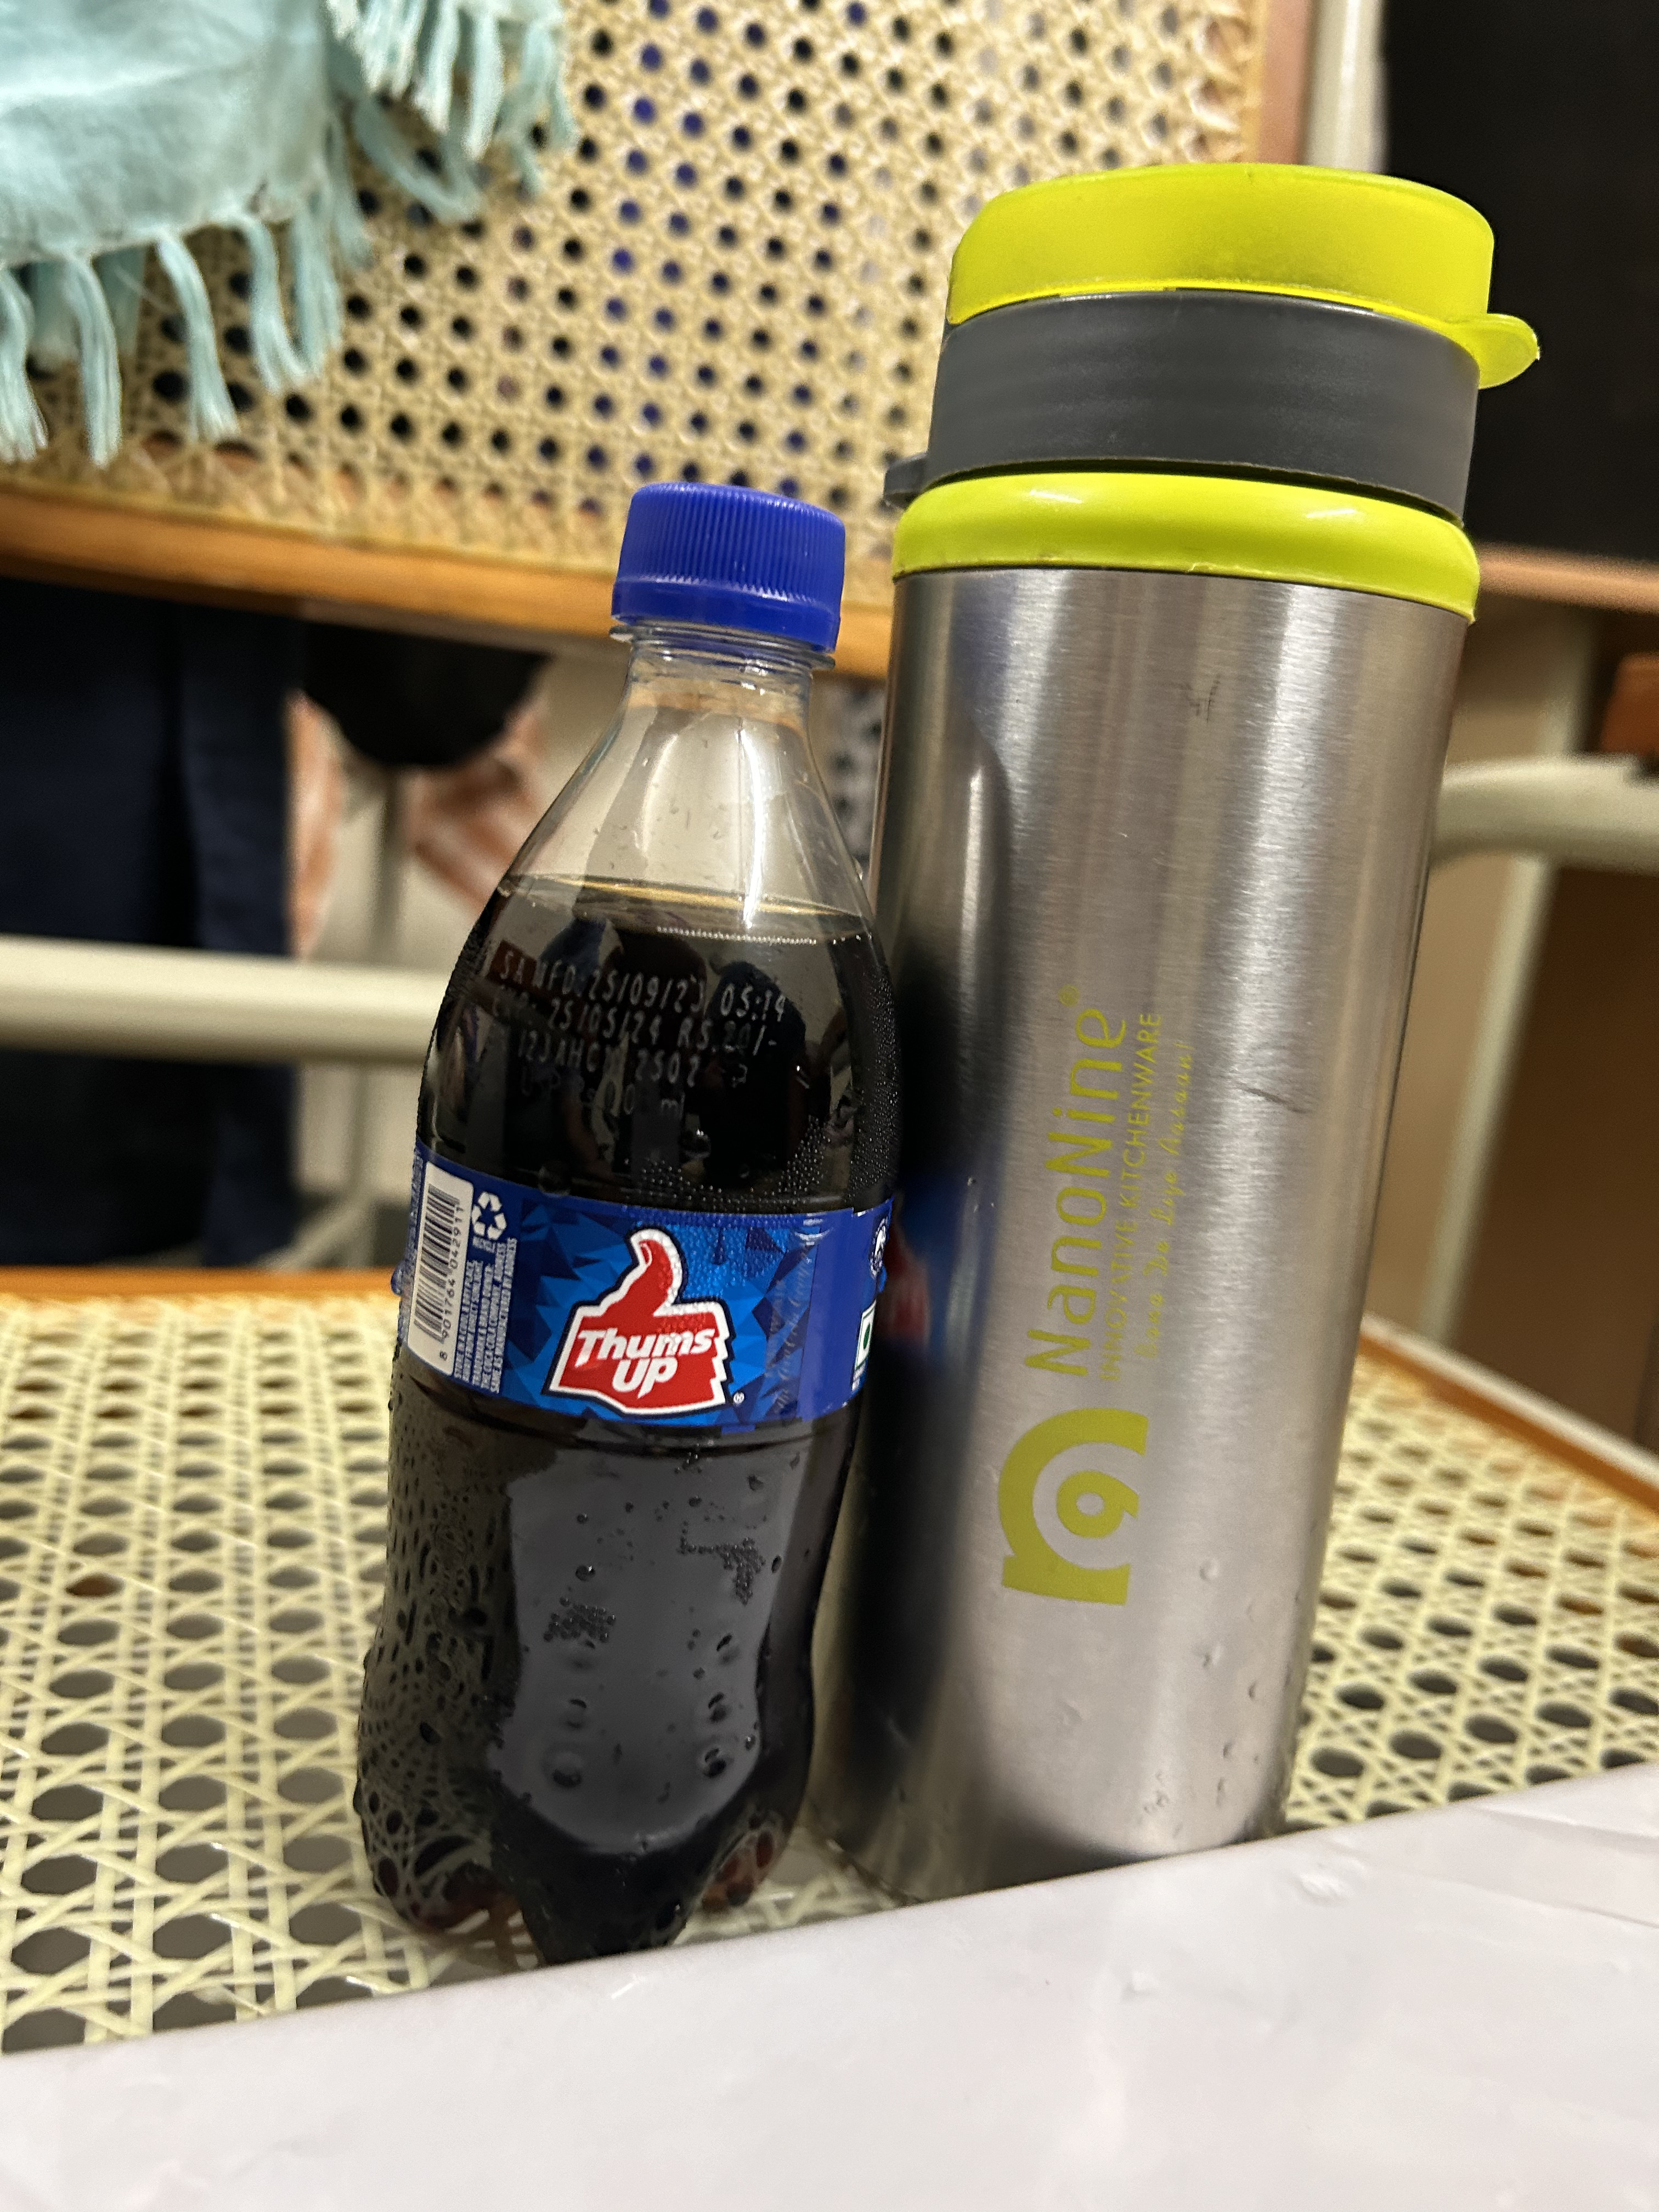sealstable: (603, 421, 861, 754)
